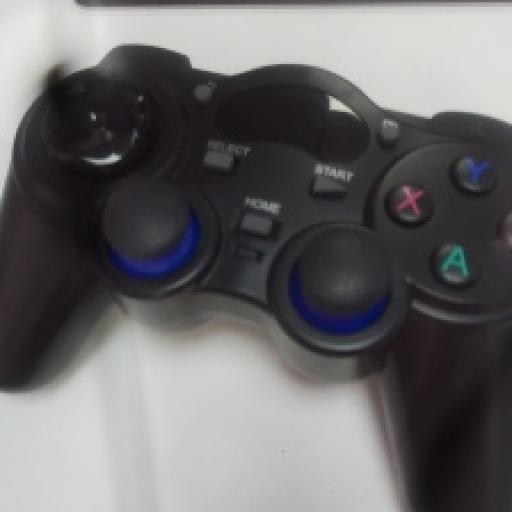game pad: (0, 46, 510, 510)
